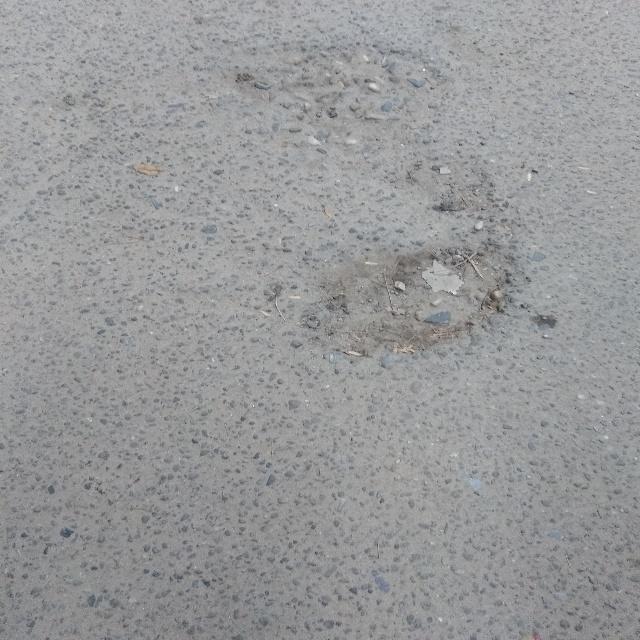Pothole: (354, 239, 494, 340)
Surface Erosion: (65, 33, 640, 638)
